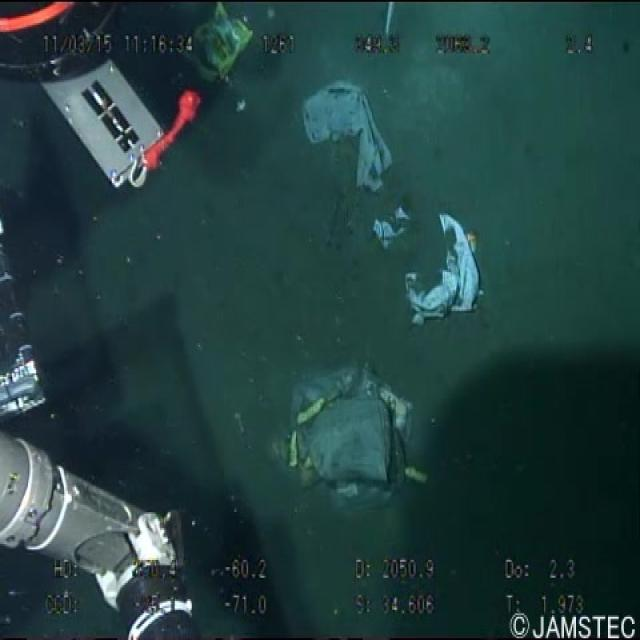plastic: (368, 197, 492, 327), (293, 76, 396, 198), (190, 0, 253, 91)
